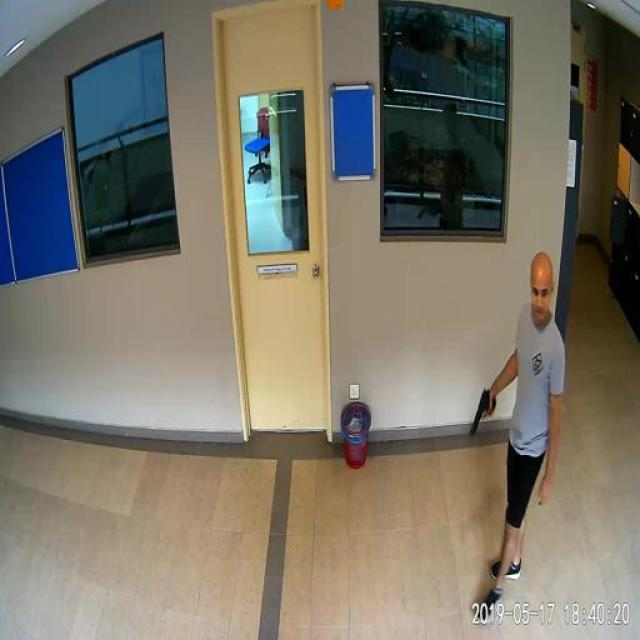Gun: (461, 374, 503, 444)
